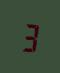three: (19, 19, 38, 53)
